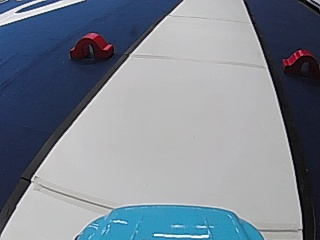bridge: (69, 29, 114, 61), (280, 46, 318, 79)
